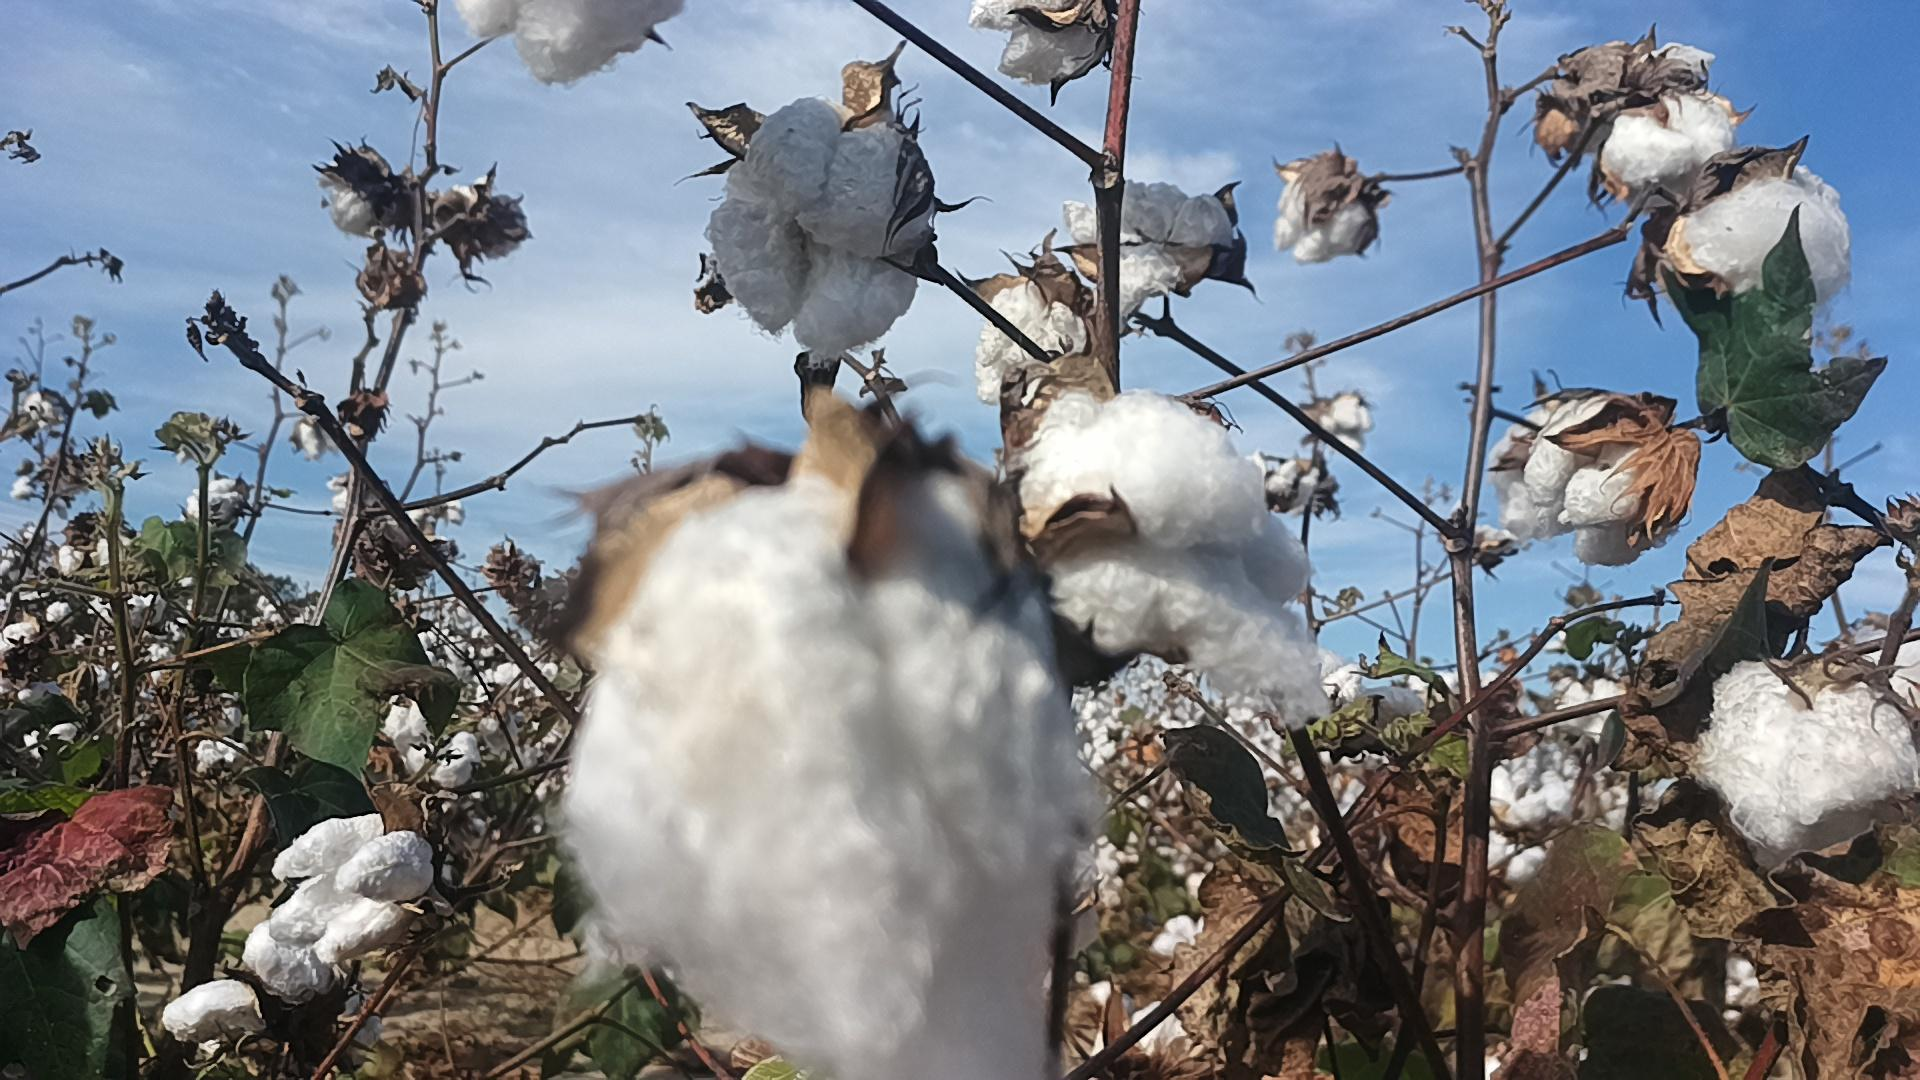cotton_ready: (558, 471, 1096, 1080), (1021, 385, 1345, 729), (703, 95, 926, 359), (1696, 663, 1920, 870), (1481, 388, 1689, 567), (1660, 164, 1855, 314), (1588, 36, 1735, 216), (270, 815, 439, 969), (158, 931, 360, 1035), (454, 0, 683, 86), (1058, 195, 1196, 326), (967, 0, 1113, 91), (976, 284, 1089, 397), (1271, 170, 1375, 268)
